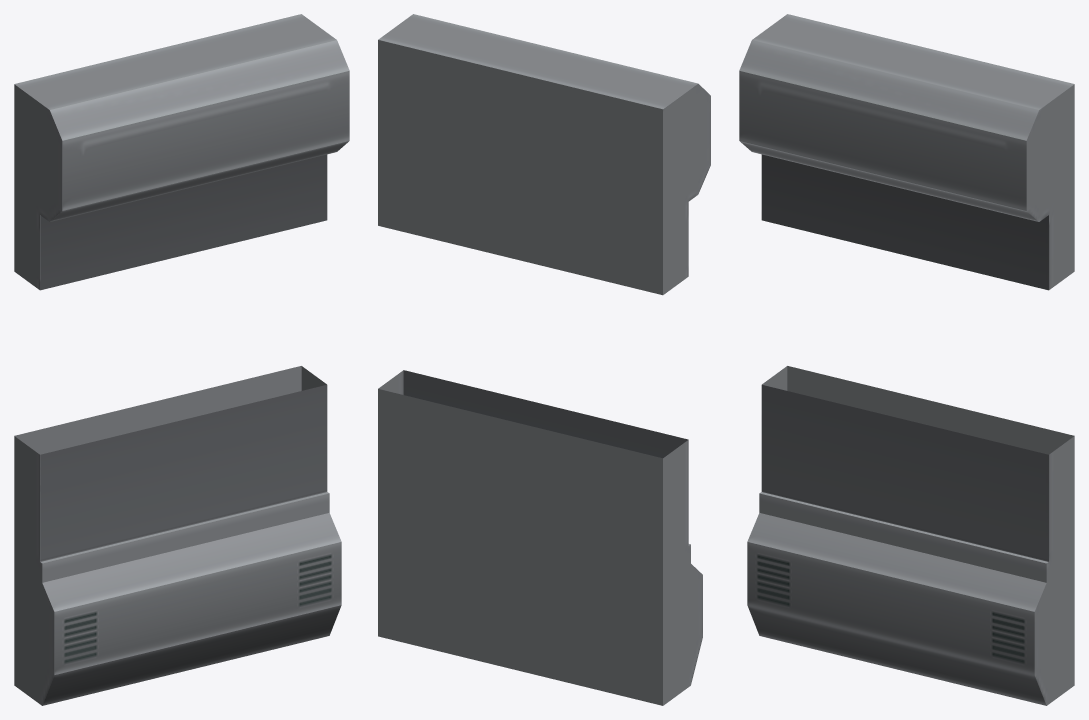
File: SM_Laboratory_Wall_Window.fbx
3 renders of one model, left to right at view 1: azimuth 30°, elevation 25°; view 2: azimuth 150°, elevation 25°; view 3: azimuth 330°, elevation 25°, orthographic.
Parts seen in each view (by area): view 1: SM_Laboratory_Wall_Window; view 2: SM_Laboratory_Wall_Window; view 3: SM_Laboratory_Wall_Window.
Part boxes in pixels (x1=…): SM_Laboratory_Wall_Window: x1=14, y1=14, x2=349, y2=705; SM_Laboratory_Wall_Window: x1=378, y1=14, x2=710, y2=705; SM_Laboratory_Wall_Window: x1=739, y1=14, x2=1074, y2=705.
Bounding box in the file's own units: 140 × 280 × 40.69.
Materials: 1 (1 with a texture image).
